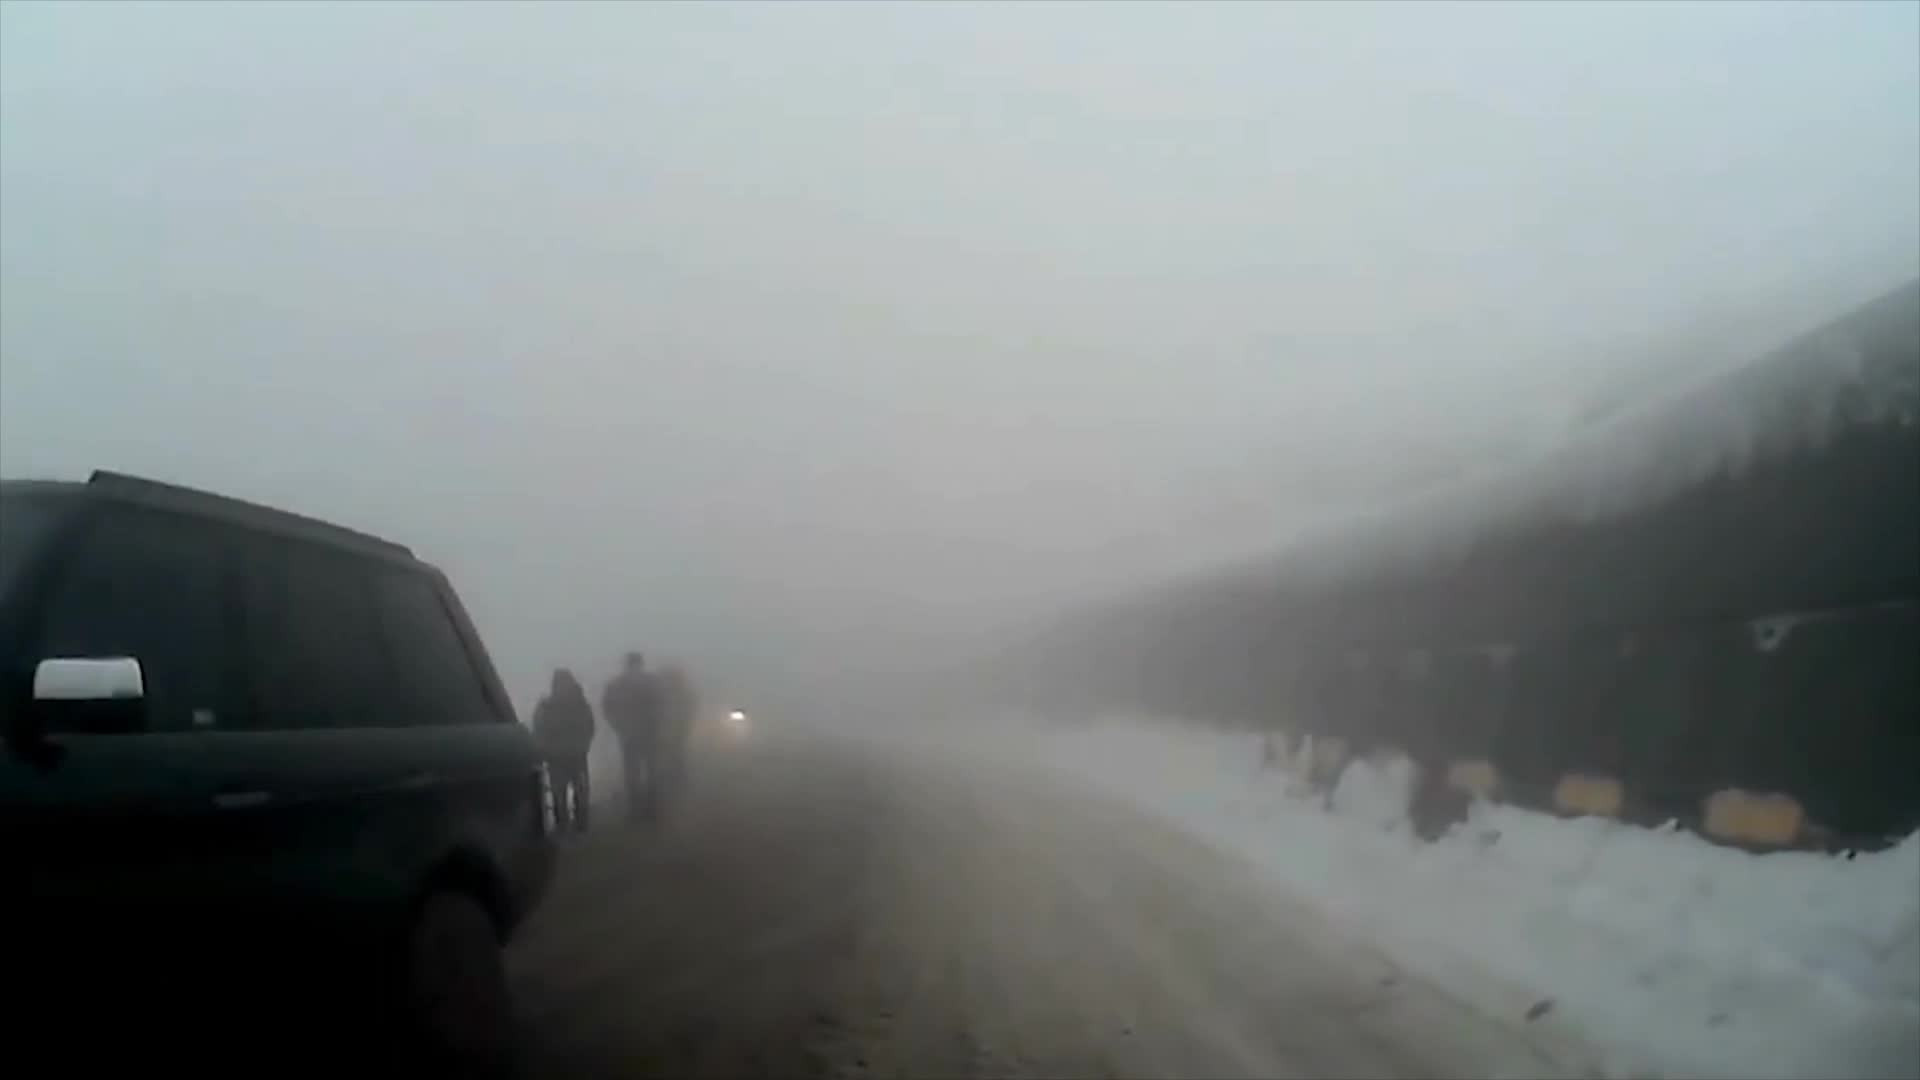pedestrian: (526, 671, 600, 843), (601, 653, 667, 824)
vehicle: (0, 465, 559, 1080)
